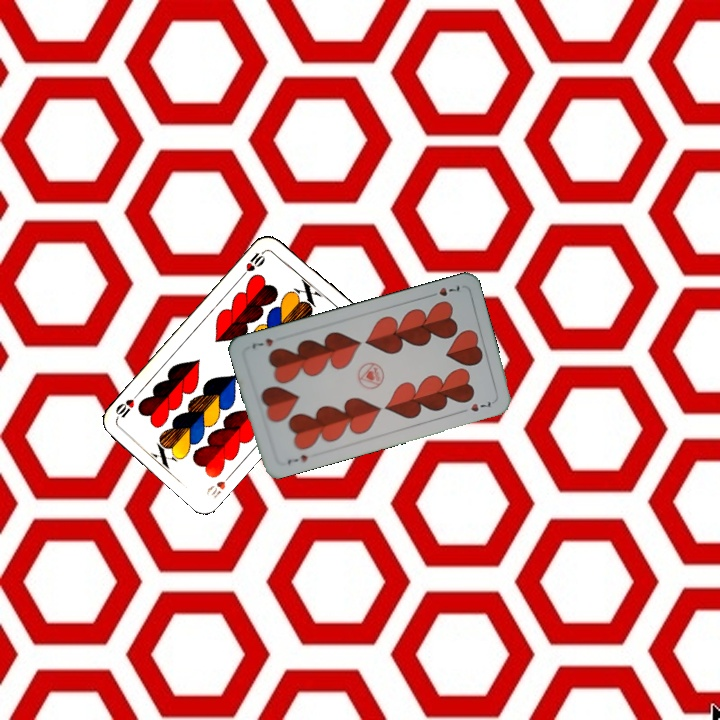H10: (202, 468, 236, 501), (238, 245, 269, 279)
H7: (424, 281, 462, 300), (283, 451, 310, 468)
